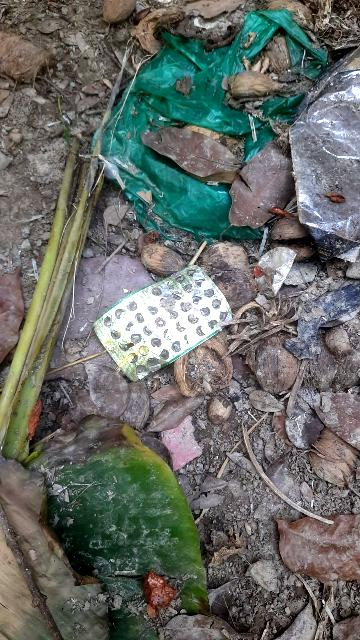medicine: (83, 254, 250, 391)
